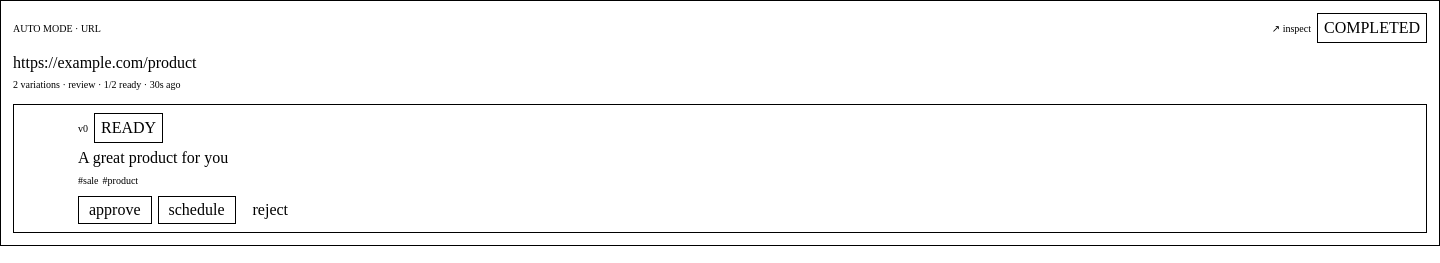
it: AutoModePanel · approve / reject › hides buttons after successful reject
The image size is (1440, 263).
What coordinates should you click on to do the following:
click the button "reject"
I would click on:
 (270, 210)
Its box is [242,196,299,224].
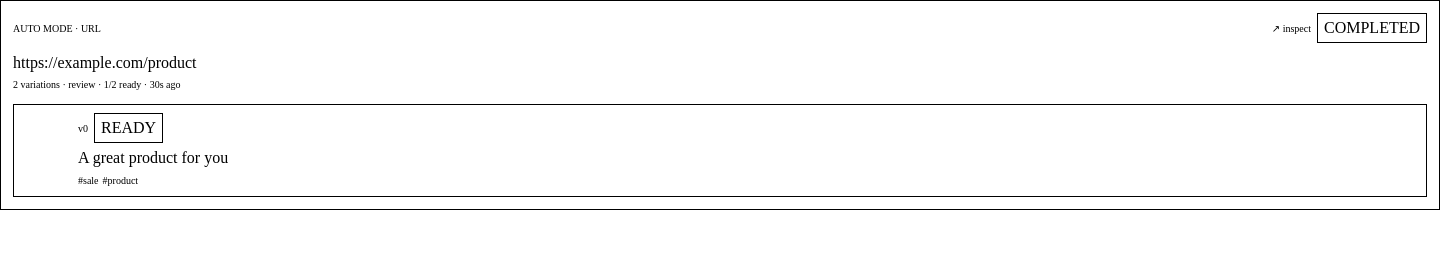
Expected: the button "reject" is gone
Expected: the button "approve" is gone
